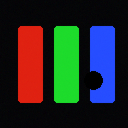2 circle: (84, 71, 102, 89)
